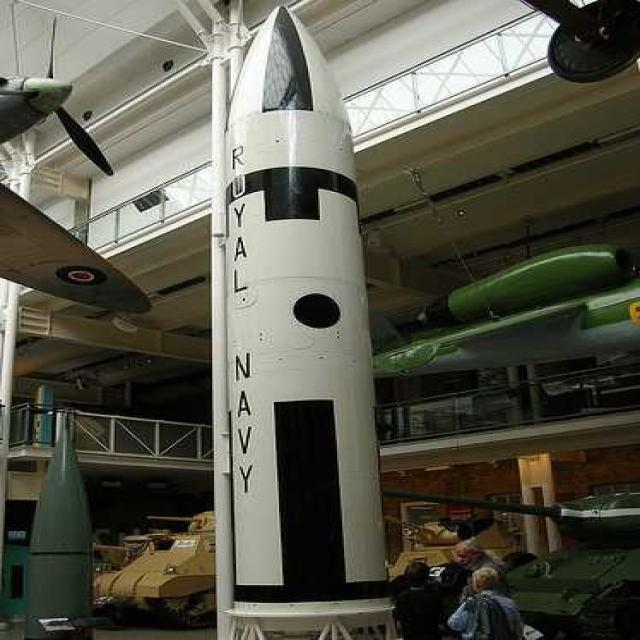missile: (211, 5, 397, 640)
